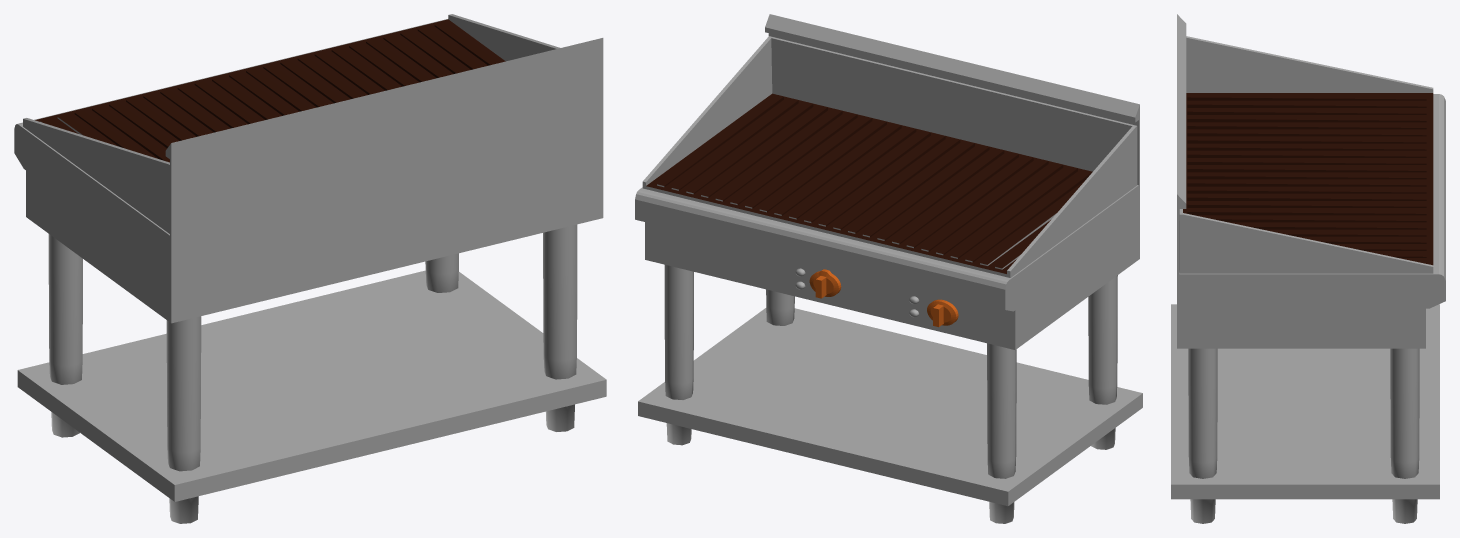
Rendered from Toasty Grill.fbx.
3 renders of one model, left to right at view 1: azimuth 30°, elevation 25°; view 2: azimuth 150°, elevation 25°; view 3: azimuth 270°, elevation 25°, orthographic. The views are drawn at different scales.
Visible parts, largest first — view 1: Prop_Griller_p01.001; view 2: Prop_Griller_p01.001, Prop_Griller_p02.001, Prop_Griller_p03.001; view 3: Prop_Griller_p01.001.
Part boxes in pixels (x1,y1,x2,y2): Prop_Griller_p01.001: [14, 14, 606, 523]; Prop_Griller_p01.001: [635, 14, 1142, 523]; Prop_Griller_p02.001: [809, 269, 841, 298]; Prop_Griller_p03.001: [927, 299, 958, 327]; Prop_Griller_p01.001: [1171, 14, 1445, 523].
Bounding box in the file's own units: 412 × 358 × 265.
